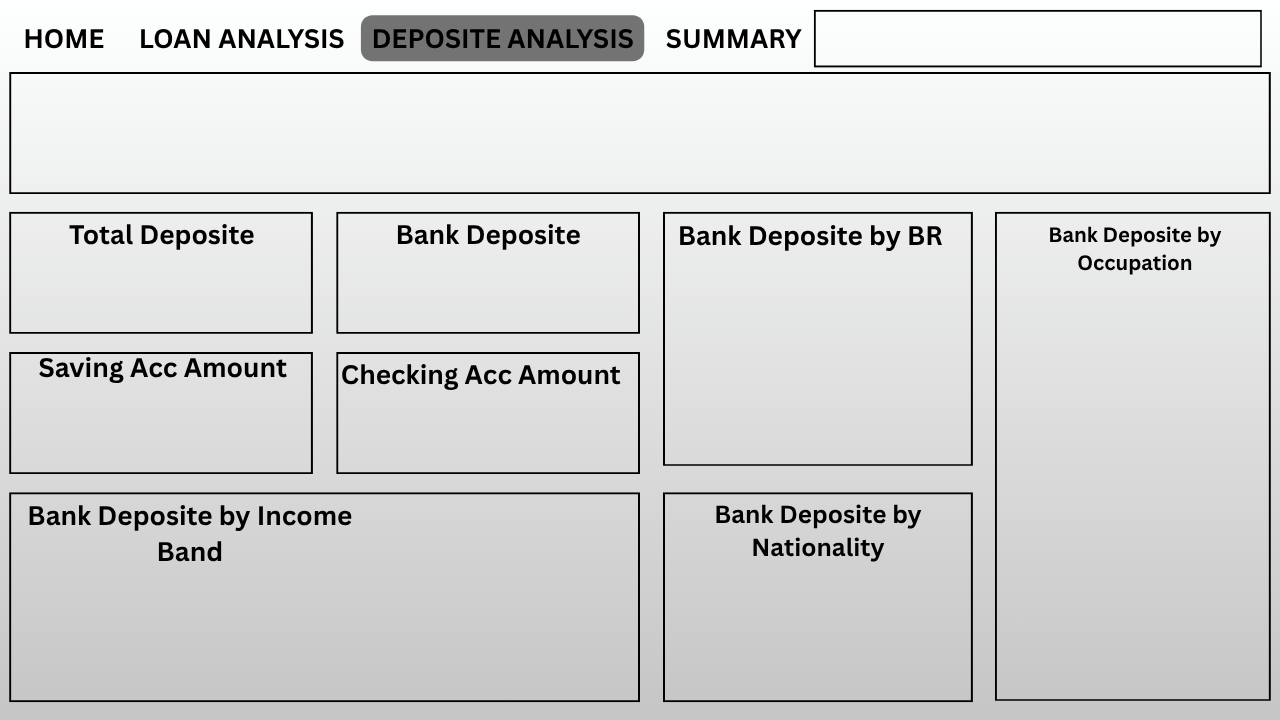

This screenshot's page, from the dashboard's own definition file:
{"tool":"powerbi","page":{"name":"Deposite Analysis","canvas":[1280,720],"ordinal":2},"visuals":[{"type":"card","fields":{"Values":["Sum(Banking.Bank Deposits)"]},"box":[47.7,251.3,214.7,62],"z":0},{"type":"card","fields":{"Values":["Sum(Banking.Bank Deposits)"]},"box":[373.8,252.9,214.7,62],"z":1},{"type":"card","fields":{"Values":["Sum(Banking.Saving Accounts)"]},"box":[47.7,391.3,214.7,62],"z":2},{"type":"card","fields":{"Values":["Sum(Banking.Checking Accounts)"]},"box":[373.8,392.9,214.7,62],"z":3},{"type":"donutChart","fields":{"Category":["Banking.Incom Band"],"Y":["Sum(Banking.Bank Deposits)"]},"box":[229,526.5,381.7,149.5],"z":4},{"type":"clusteredColumnChart","fields":{"Y":["Sum(Banking.Bank Deposits)"],"Category":["Banking.BRId"]},"box":[717.4,283.1,214.7,149.5],"z":5},{"type":"clusteredColumnChart","fields":{"Category":["Banking.Nationality"],"Y":["Sum(Banking.Bank Deposits)"]},"box":[717.4,556.7,190.9,119.3],"z":6},{"type":"clusteredColumnChart","fields":{"Category":["Banking.Occupation"],"Y":["Sum(Banking.Bank Deposits)"]},"box":[1029.1,284.7,214.7,391.3],"z":7},{"type":"slicer","fields":{"Values":["Banking.BRId"]},"box":[47.7,95.4,235.4,71.6],"z":8},{"type":"slicer","fields":{"Values":["Banking.GenderId"]},"box":[311.8,97,257.7,71.6],"z":9},{"type":"slicer","fields":{"Values":["Banking.IAId"]},"box":[598.1,97,629.9,71.6],"z":10},{"type":"slicer","fields":{"Values":["Banking.Year of joining"]},"box":[825.5,12.7,418.3,46.1],"z":11},{"type":"actionButton","box":[17.5,17.5,100.2,39.8],"z":12},{"type":"actionButton","box":[133.6,12.7,213.1,39.8],"z":13},{"type":"actionButton","box":[660.1,14.3,152.7,39.8],"z":14}]}

Visuals, with their boxes in screenshot pixels (x1, y1, x2, y2), scaled from the page's 1280x720 canvas onto the 1280x720 screenshot:
card - Sum(Banking.Bank Deposits): [48,251,262,313]
card - Sum(Banking.Bank Deposits): [374,253,588,315]
card - Sum(Banking.Saving Accounts): [48,391,262,453]
card - Sum(Banking.Checking Accounts): [374,393,588,455]
donutChart - Banking.Incom Band x Sum(Banking.Bank Deposits): [229,526,611,676]
clusteredColumnChart - Sum(Banking.Bank Deposits) x Banking.BRId: [717,283,932,433]
clusteredColumnChart - Banking.Nationality x Sum(Banking.Bank Deposits): [717,557,908,676]
clusteredColumnChart - Banking.Occupation x Sum(Banking.Bank Deposits): [1029,285,1244,676]
slicer - Banking.BRId: [48,95,283,167]
slicer - Banking.GenderId: [312,97,570,169]
slicer - Banking.IAId: [598,97,1228,169]
slicer - Banking.Year of joining: [826,13,1244,59]
actionButton: [18,18,118,57]
actionButton: [134,13,347,52]
actionButton: [660,14,813,54]
